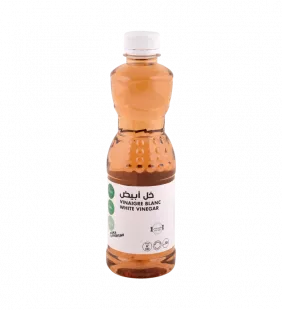TOUS LES JOURS: (99, 20, 187, 284)
